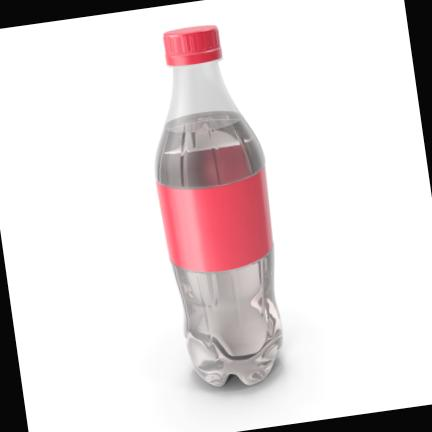container: (155, 60, 282, 385)
fluid: (154, 117, 281, 384)
fluid-surface: (165, 111, 243, 133)
